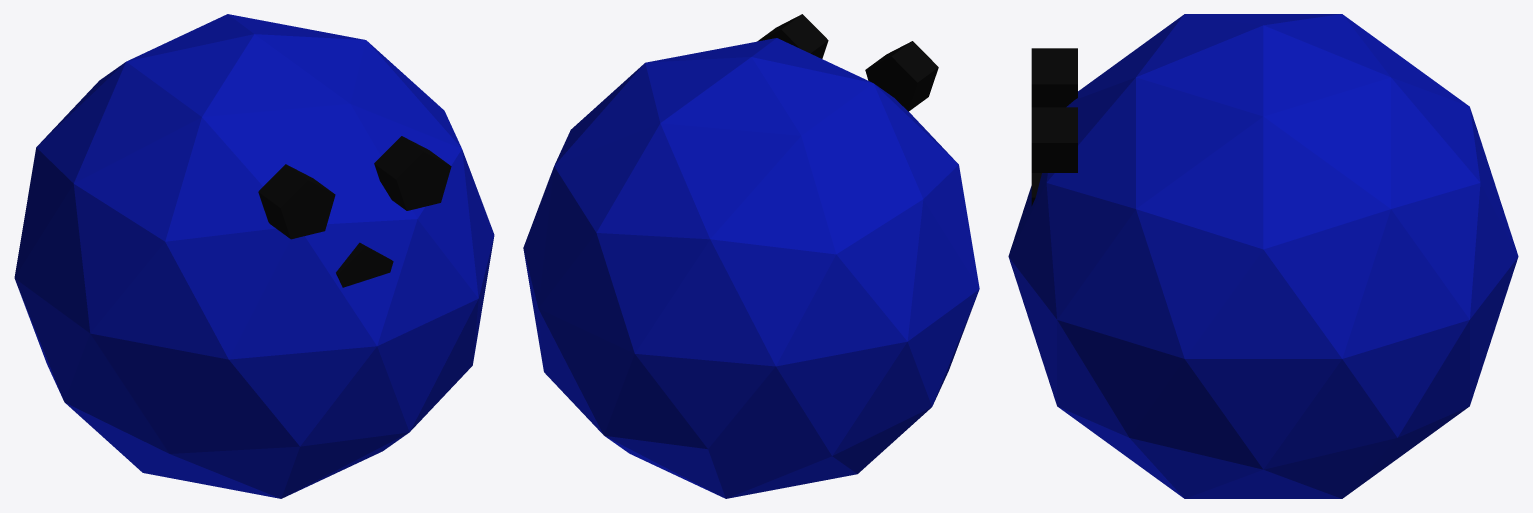
Rendered from bowling_ball_blue.obj.
The picture shows the model from 3 angles, left to right: view 1: azimuth 30°, elevation 25°; view 2: azimuth 150°, elevation 25°; view 3: azimuth 270°, elevation 25°; orthographic projection. The views are drawn at different scales.
Visible parts, largest first — view 1: bowling_ball_blue; view 2: bowling_ball_blue; view 3: bowling_ball_blue.
Boxes of the visible parts, x1,y1,x2,y2 form: bowling_ball_blue: (14,14,494,498); bowling_ball_blue: (523,14,979,498); bowling_ball_blue: (1008,14,1518,498).
Size of the model in its own units: 0.2092 by 0.22 by 0.22.
